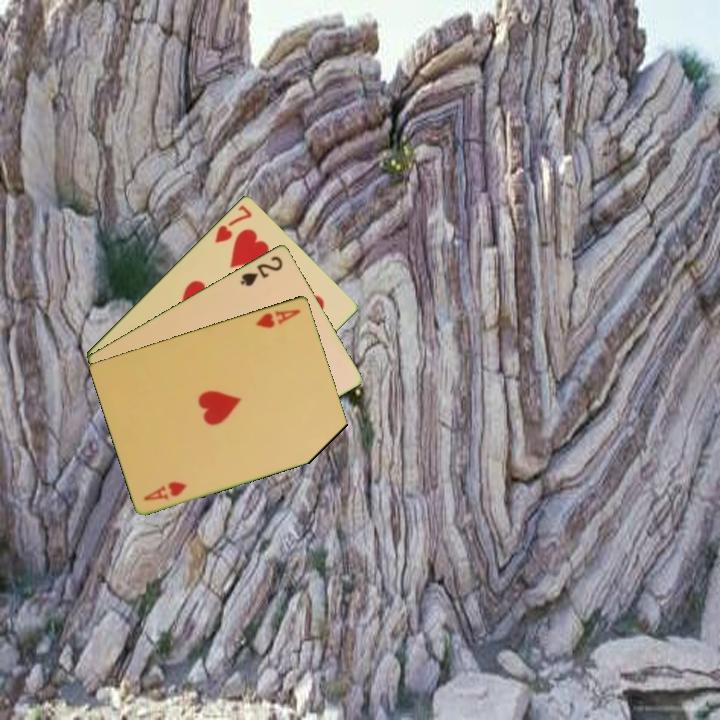2s: (237, 252, 286, 289)
7h: (211, 201, 255, 246)
Ah: (252, 305, 304, 331), (140, 478, 190, 503)
